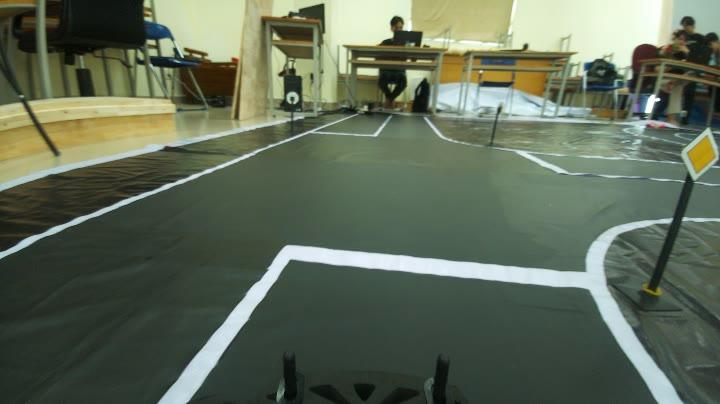priority: (677, 124, 718, 184)
